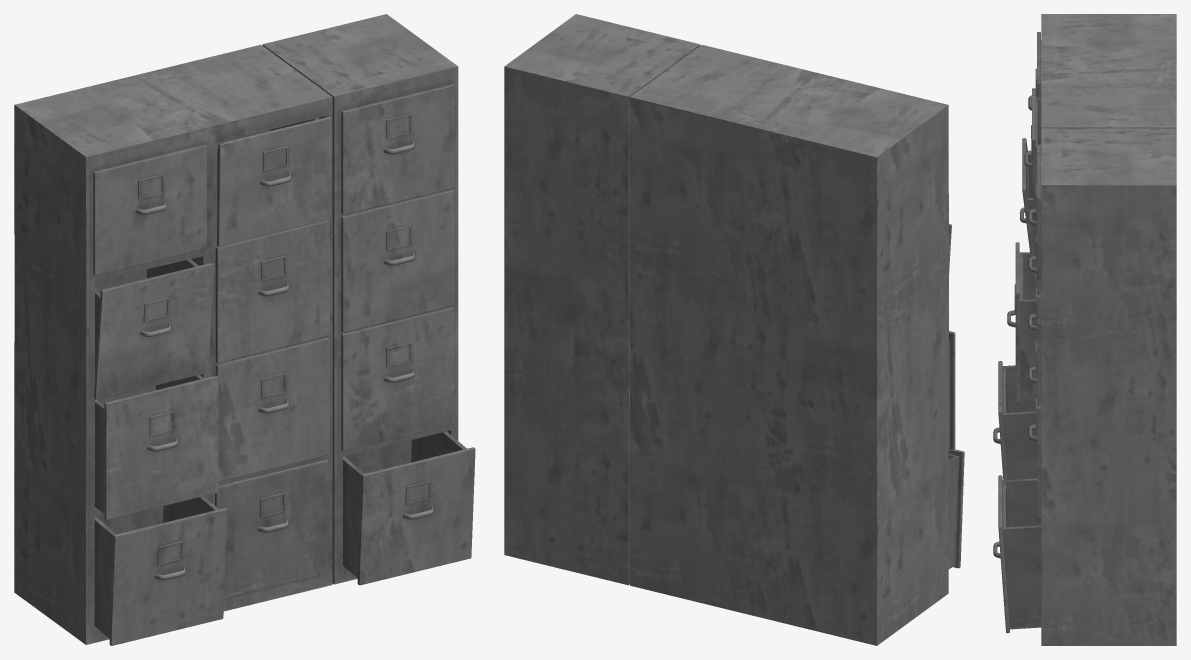
File: storage_cabinets.glb
The picture shows the model from 3 angles, left to right: view 1: azimuth 30°, elevation 25°; view 2: azimuth 150°, elevation 25°; view 3: azimuth 270°, elevation 25°; orthographic projection. The views are drawn at different scales.
Visible parts, largest first — view 1: Object_2; view 2: Object_2; view 3: Object_2.
Boxes of the visible parts, x1=… form: Object_2: x1=14, y1=14, x2=475, y2=645; Object_2: x1=504, y1=14, x2=964, y2=645; Object_2: x1=993, y1=14, x2=1176, y2=645.
Bounding box in the file's own units: 34.52 × 43.24 × 15.59.
Materials: 1 (1 with a texture image).
